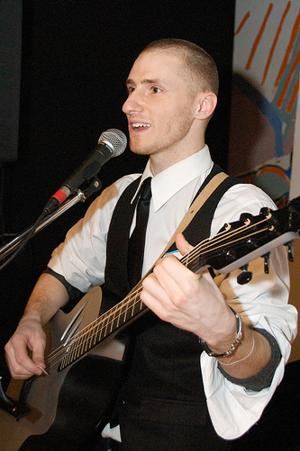person: (5, 35, 298, 450)
